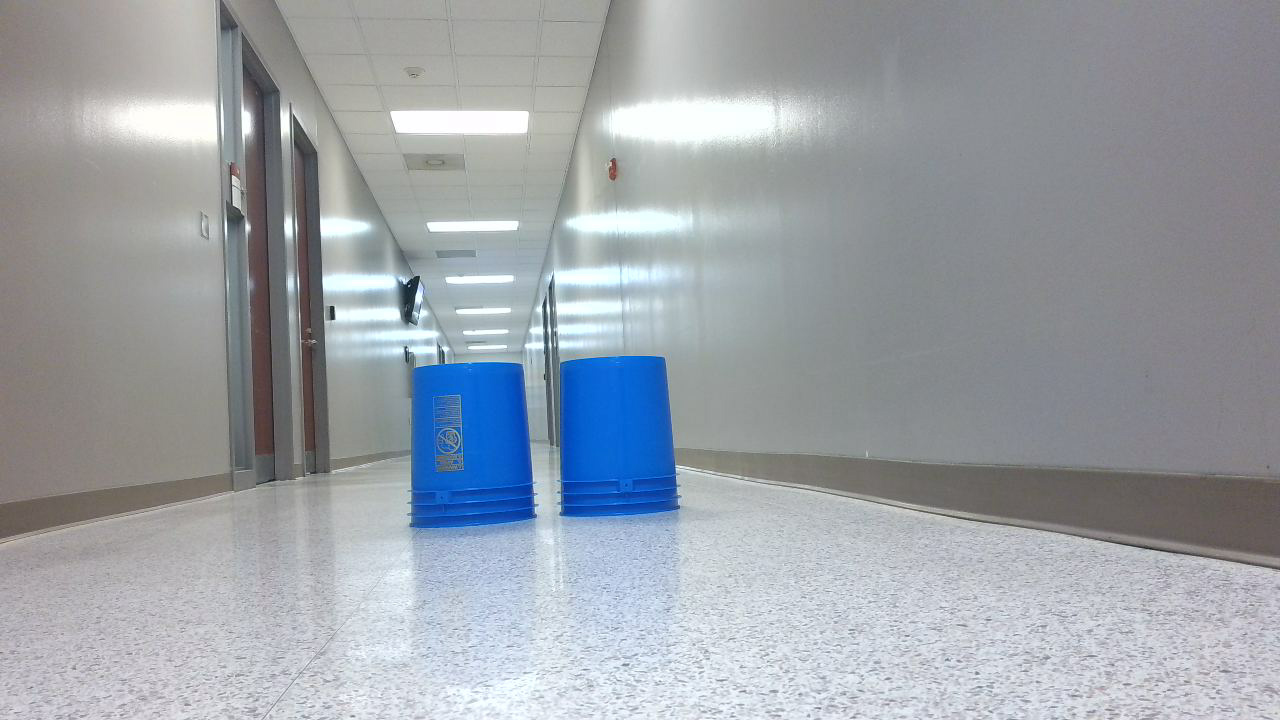blue_bucket: (411, 365, 544, 536), (562, 358, 688, 523)
